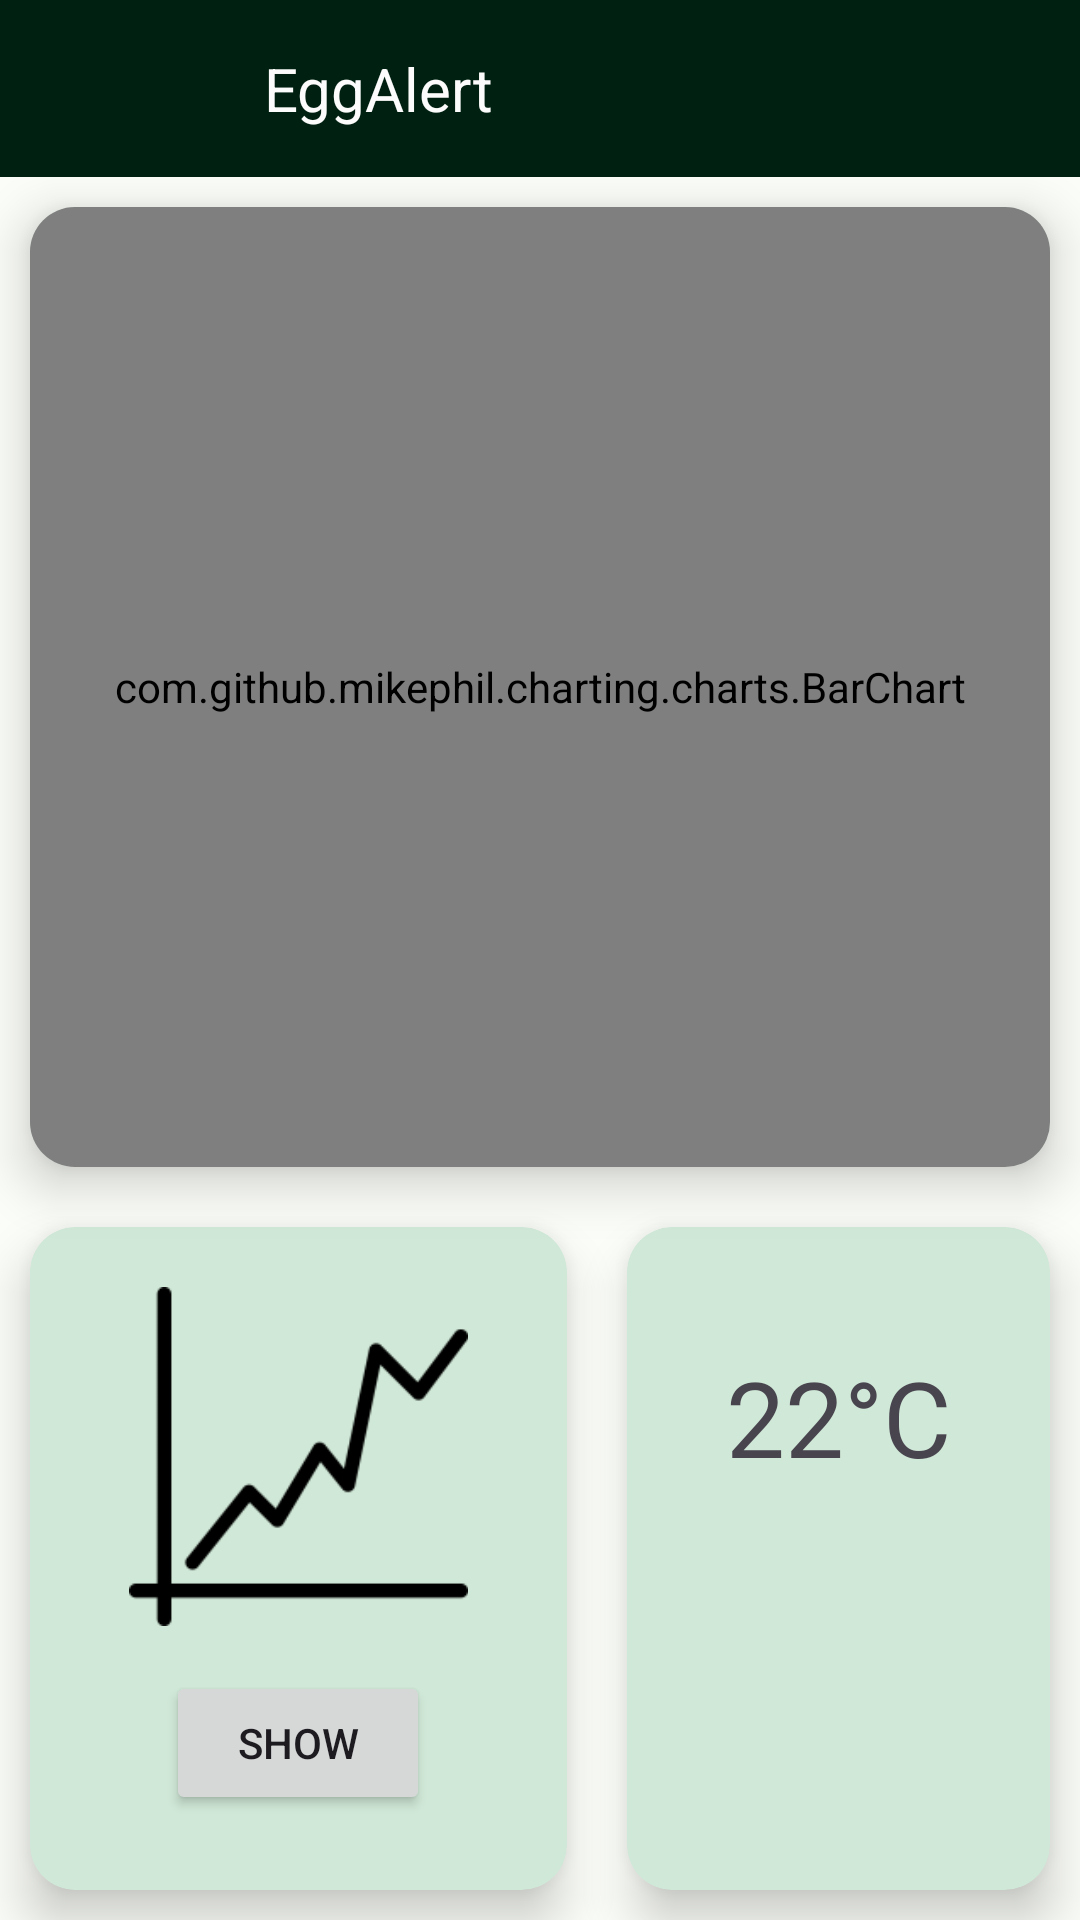

Named icons in this screenshot (1080w x 1920h) and their bounding boxes, [x1=x1, y1=y1, x2=x2, y2=y2]:
graf ikona: [x1=129, y1=1287, x2=468, y2=1626]
